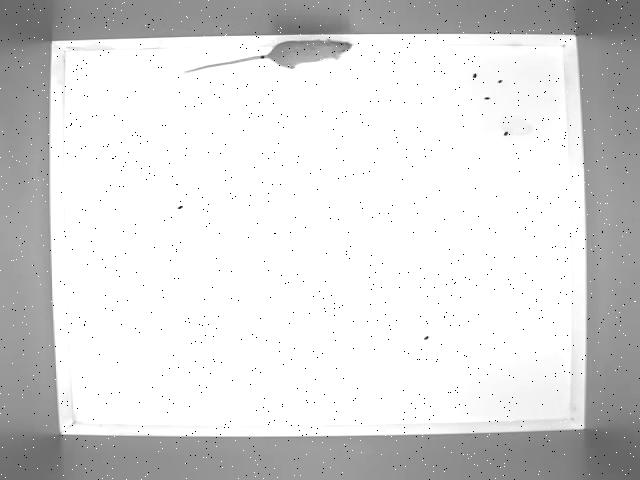Tikus: (182, 36, 354, 80)
